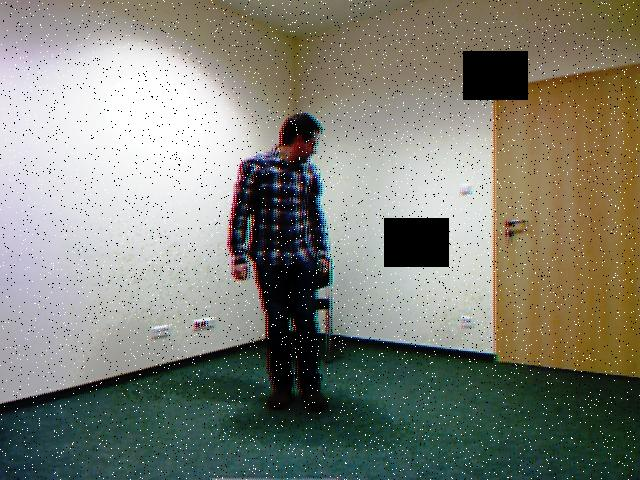standing: (219, 93, 355, 422)
